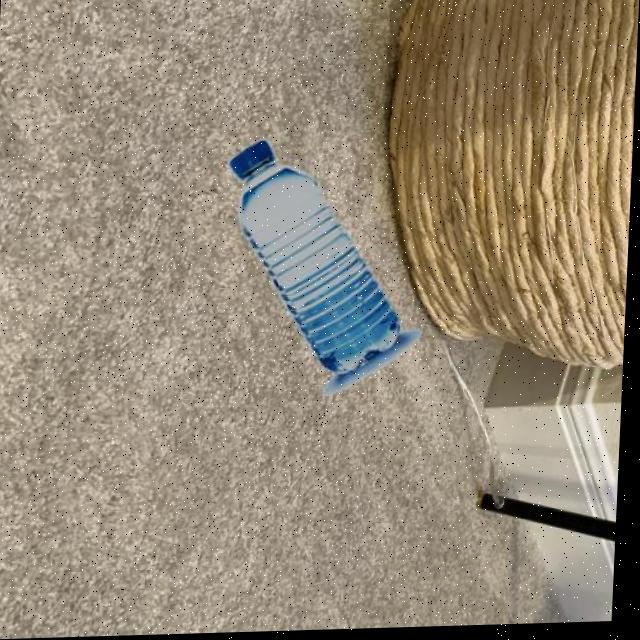bottle: (219, 136, 432, 400)
